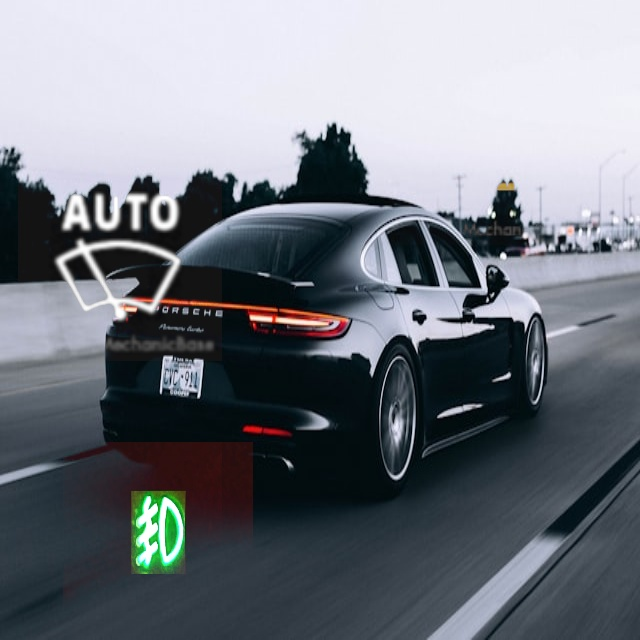symbol: (18, 157, 222, 361), (63, 442, 253, 632), (389, 57, 577, 245)
